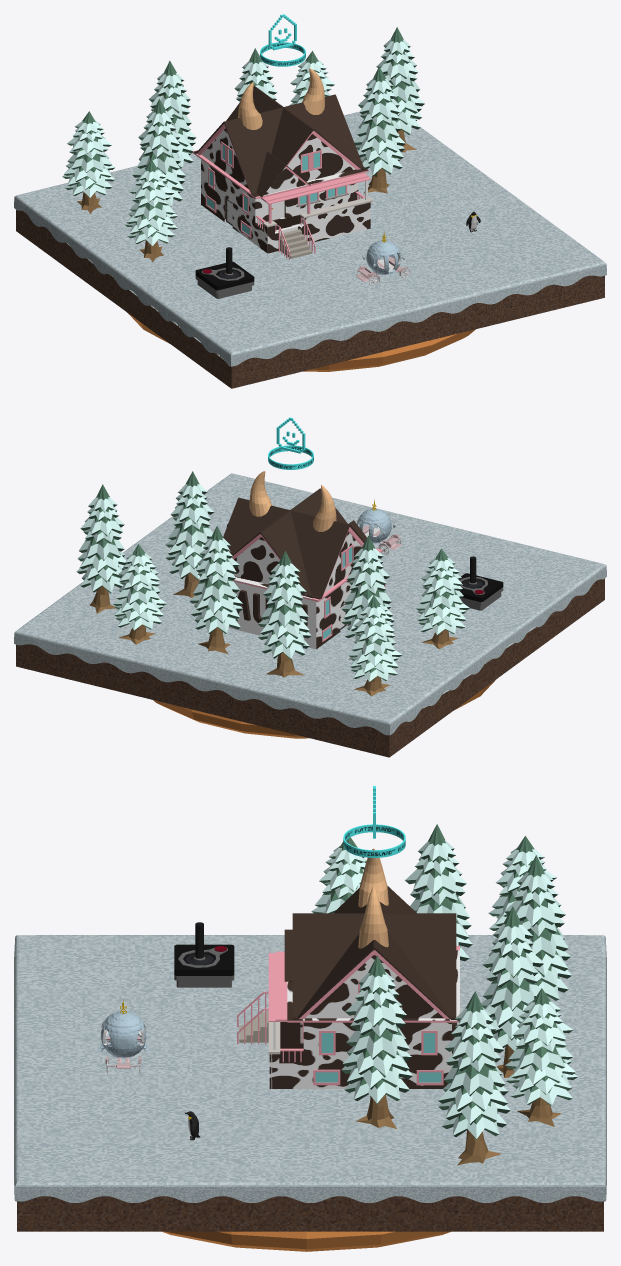
The picture shows the model from 3 angles, top to bottom: view 1: azimuth 30°, elevation 25°; view 2: azimuth 150°, elevation 25°; view 3: azimuth 270°, elevation 25°; orthographic projection. The views are drawn at different scales.
Visible parts, largest first — view 1: Cube.003, Cube.1242, UNDERGROUND_PIZZA, OBJRANDOM_JOYSTICK, VEHICLES_FANTASY_CARRIAGE, TYPE_PREMIUM; view 2: Cube.003, Cube.1242, UNDERGROUND_PIZZA, OBJRANDOM_JOYSTICK, VEHICLES_FANTASY_CARRIAGE, TYPE_PREMIUM; view 3: Cube.003, Cube.1242, UNDERGROUND_PIZZA, OBJRANDOM_JOYSTICK, VEHICLES_FANTASY_CARRIAGE, TYPE_PREMIUM.
Part boxes in pixels (x1,y1,x2,y2): Cube.003: (14, 27, 606, 388); Cube.1242: (192, 68, 373, 259); UNDERGROUND_PIZZA: (127, 312, 475, 371); OBJRANDOM_JOYSTICK: (195, 247, 254, 298); VEHICLES_FANTASY_CARRIAGE: (356, 231, 410, 286); TYPE_PREMIUM: (260, 14, 305, 66); Cube.003: (14, 471, 606, 757); Cube.1242: (223, 471, 385, 649); UNDERGROUND_PIZZA: (153, 680, 495, 738); OBJRANDOM_JOYSTICK: (459, 556, 503, 610); VEHICLES_FANTASY_CARRIAGE: (357, 499, 401, 554); TYPE_PREMIUM: (268, 417, 313, 469); Cube.003: (14, 824, 606, 1231); Cube.1242: (237, 848, 459, 1088); UNDERGROUND_PIZZA: (162, 1231, 450, 1251); OBJRANDOM_JOYSTICK: (174, 922, 234, 987); VEHICLES_FANTASY_CARRIAGE: (98, 999, 148, 1073); TYPE_PREMIUM: (343, 786, 405, 857).
Size of the model in its own units: 4040 by 2679 by 4040.
Materials: 41 (4 with a texture image).
